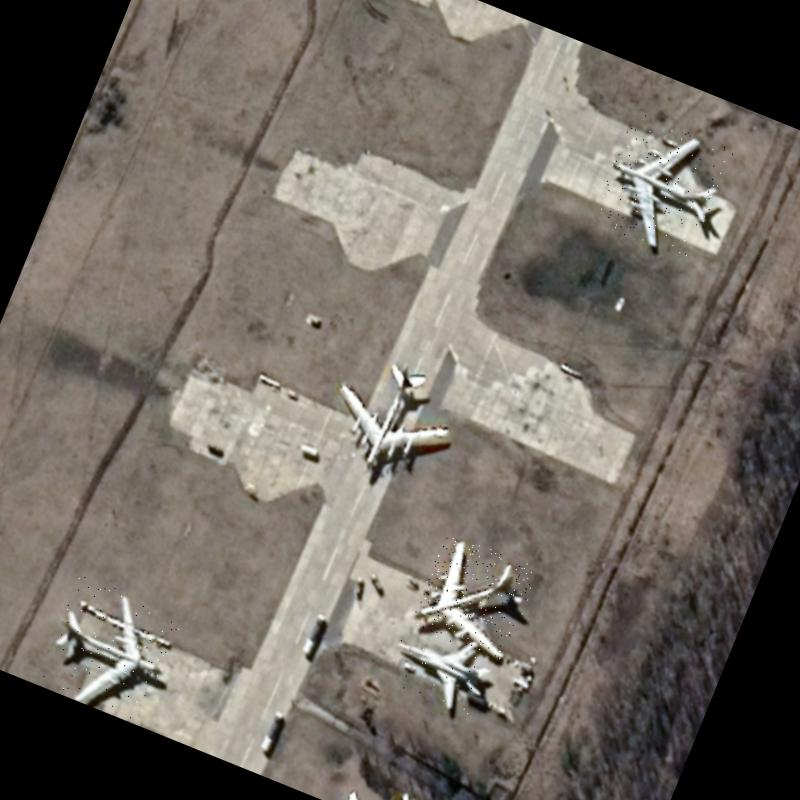A12: (377, 610, 500, 720)
A17: (34, 573, 187, 726), (312, 344, 467, 494), (588, 110, 734, 261), (408, 531, 540, 662)
